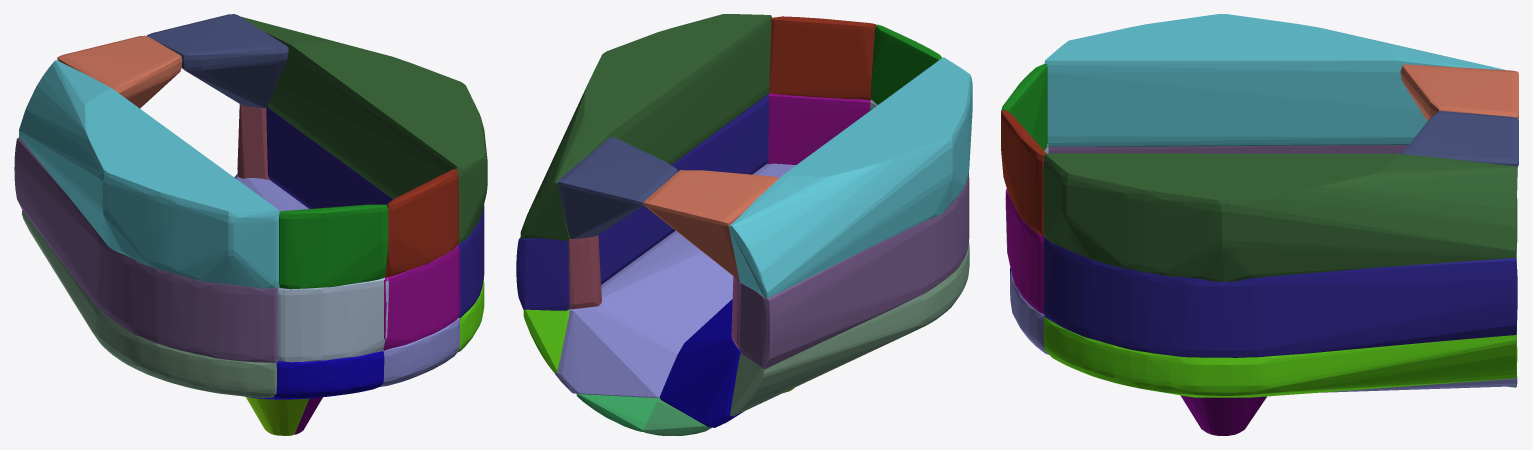
Rendered from hip-pitch-housing_split.obj.
3 views of the same model, side by side, from view 1: azimuth 30°, elevation 25°; view 2: azimuth 150°, elevation 25°; view 3: azimuth 270°, elevation 25° (orthographic). The views are drawn at different scales.
Parts seen in each view (by area): view 1: geometry_2, geometry_19, geometry_1, geometry_8, geometry_18, geometry_6, geometry_0, geometry_16, geometry_15, geometry_14, geometry_9, geometry_5 (+4 smaller); view 2: geometry_2, geometry_19, geometry_12, geometry_1, geometry_18, geometry_0, geometry_15, geometry_16, geometry_9, geometry_5, geometry_14, geometry_8 (+5 smaller); view 3: geometry_19, geometry_2, geometry_18, geometry_17, geometry_9, geometry_16, geometry_15, geometry_1, geometry_14, geometry_11, geometry_8, geometry_12.
Part boxes in pixels (x1,y1,x2,y2): geometry_2: (19, 60, 279, 288); geometry_19: (240, 16, 487, 243); geometry_1: (14, 137, 278, 363); geometry_8: (279, 204, 388, 289); geometry_18: (266, 107, 484, 318); geometry_6: (277, 278, 388, 362); geometry_0: (22, 210, 276, 397); geometry_16: (146, 14, 288, 107); geometry_15: (384, 169, 458, 277); geometry_14: (383, 244, 459, 350); geometry_9: (57, 35, 182, 108); geometry_5: (246, 351, 384, 399); geometry_2: (729, 57, 972, 299); geometry_19: (520, 14, 771, 241); geometry_12: (554, 163, 795, 397); geometry_1: (739, 172, 969, 369); geometry_18: (516, 94, 769, 310); geometry_0: (730, 242, 969, 416); geometry_15: (769, 16, 876, 100); geometry_16: (557, 137, 677, 238); geometry_9: (643, 170, 779, 279); geometry_5: (660, 299, 744, 427); geometry_14: (767, 93, 871, 164); geometry_8: (871, 24, 941, 104); geometry_19: (1043, 153, 1517, 281); geometry_2: (1044, 14, 1506, 146); geometry_18: (1043, 237, 1517, 357); geometry_17: (1044, 317, 1517, 397); geometry_9: (1400, 64, 1518, 120); geometry_16: (1402, 111, 1518, 168); geometry_15: (1001, 110, 1045, 235); geometry_1: (1048, 145, 1517, 189); geometry_14: (1005, 189, 1044, 314); geometry_11: (1180, 395, 1266, 435); geometry_8: (1001, 64, 1047, 150); geometry_12: (1010, 271, 1517, 392).
Bounding box in the file's own units: 0.1037 × 0.0824 × 0.12.
